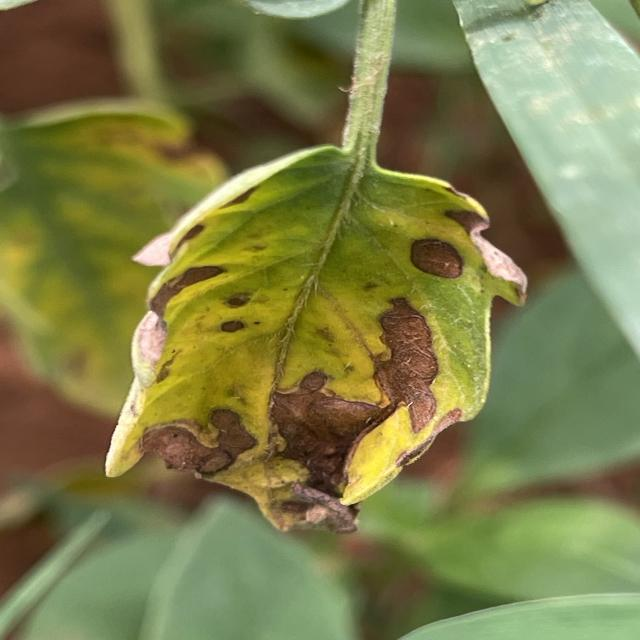tomato_early blight: (104, 140, 526, 532), (0, 102, 245, 458)
